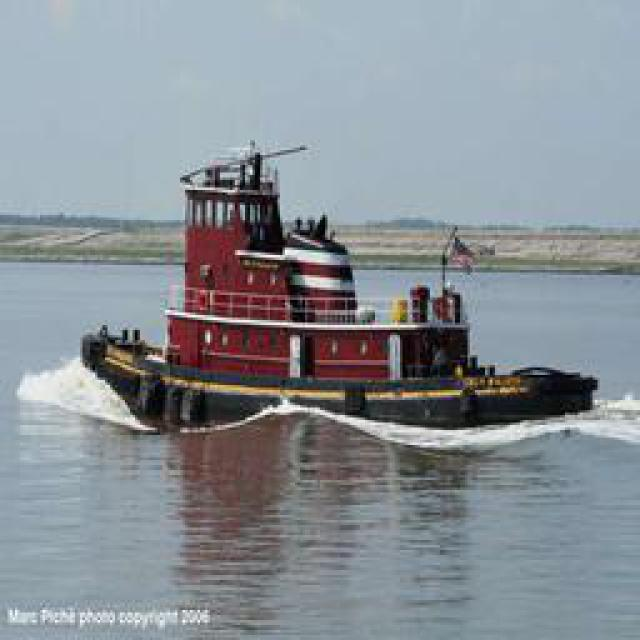Ship: (64, 131, 594, 431)
